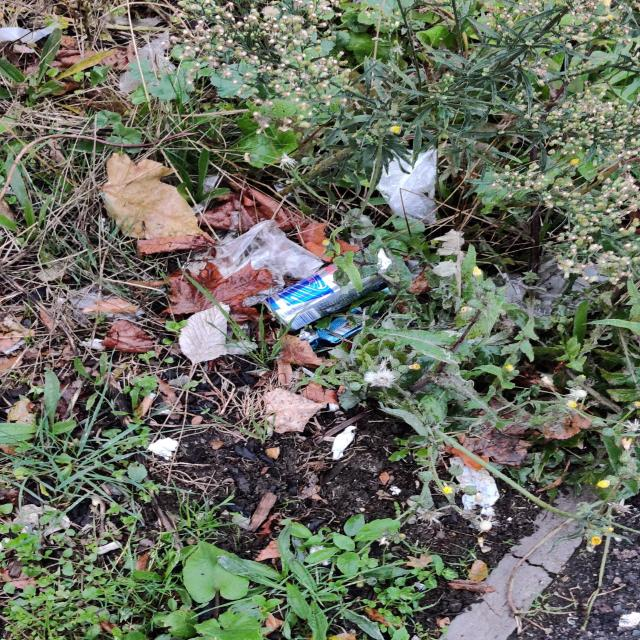litter: (257, 243, 401, 331)
